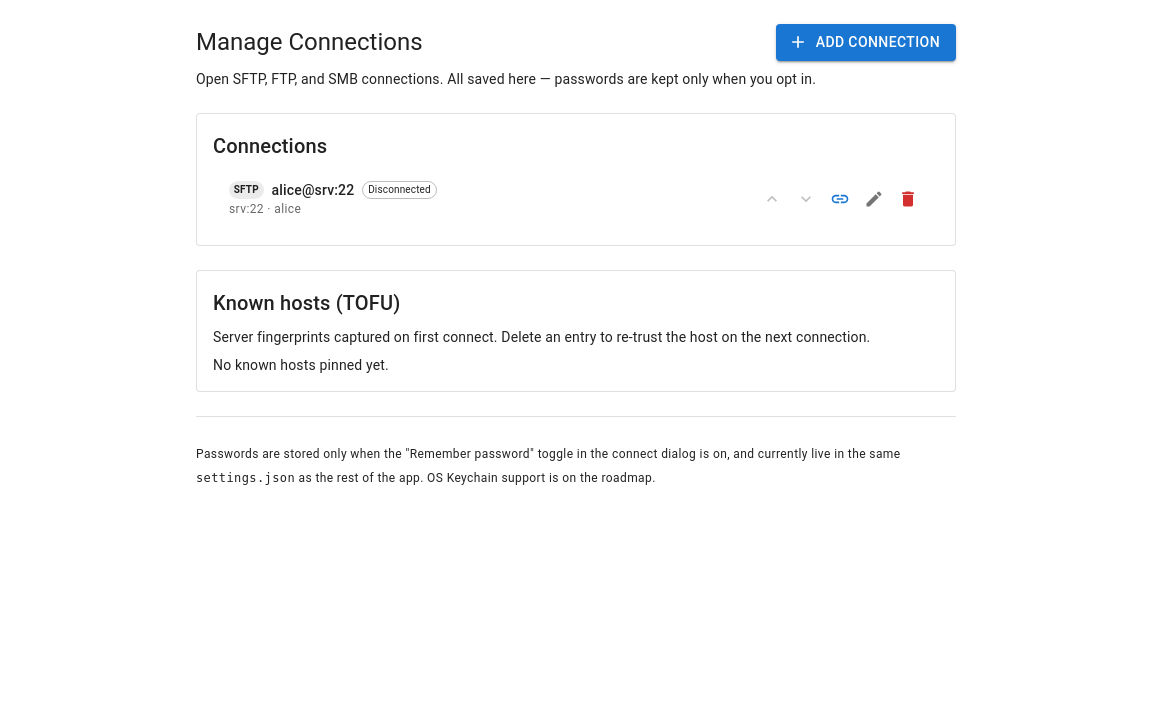
Scenario: ConnectionsPage (merged list) › Edit button opens the dialog pre-filled with the connection's details
Click the button named "Edit alice@srv:22". click: x=874, y=200
box: [859,184,889,214]
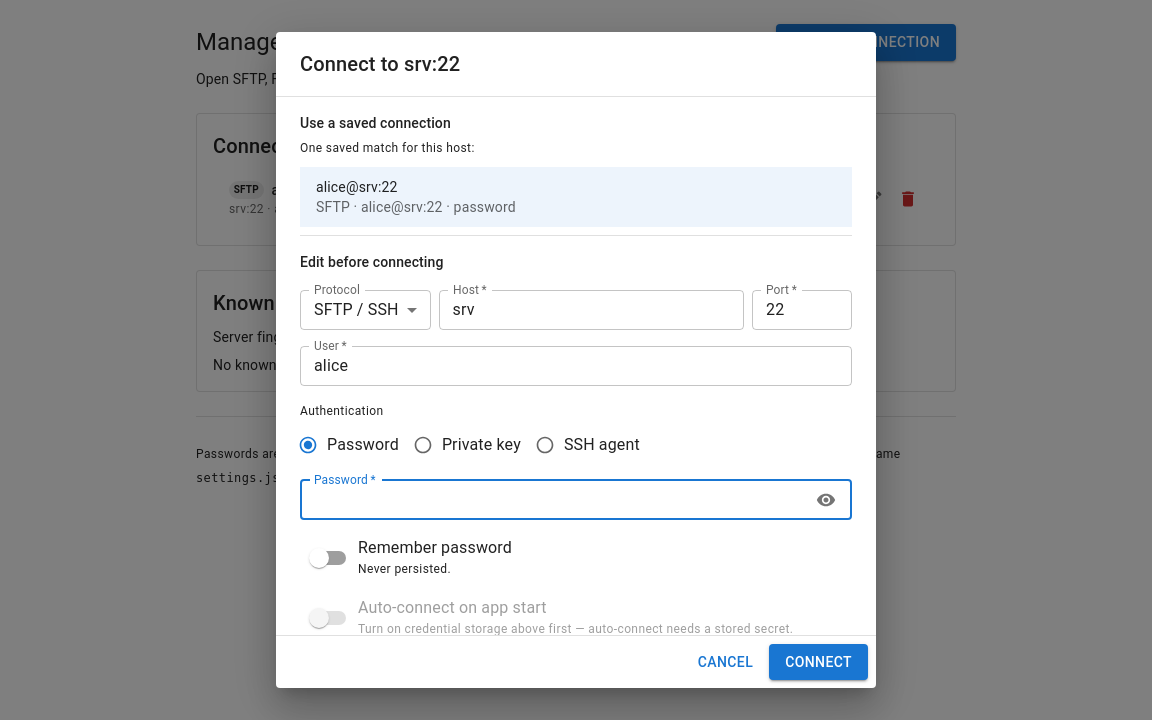
Now the field labelled "User *" holds "alice", box [300,346,852,386]
Now the field labelled "Host *" holds "srv", box [439,290,744,330]
